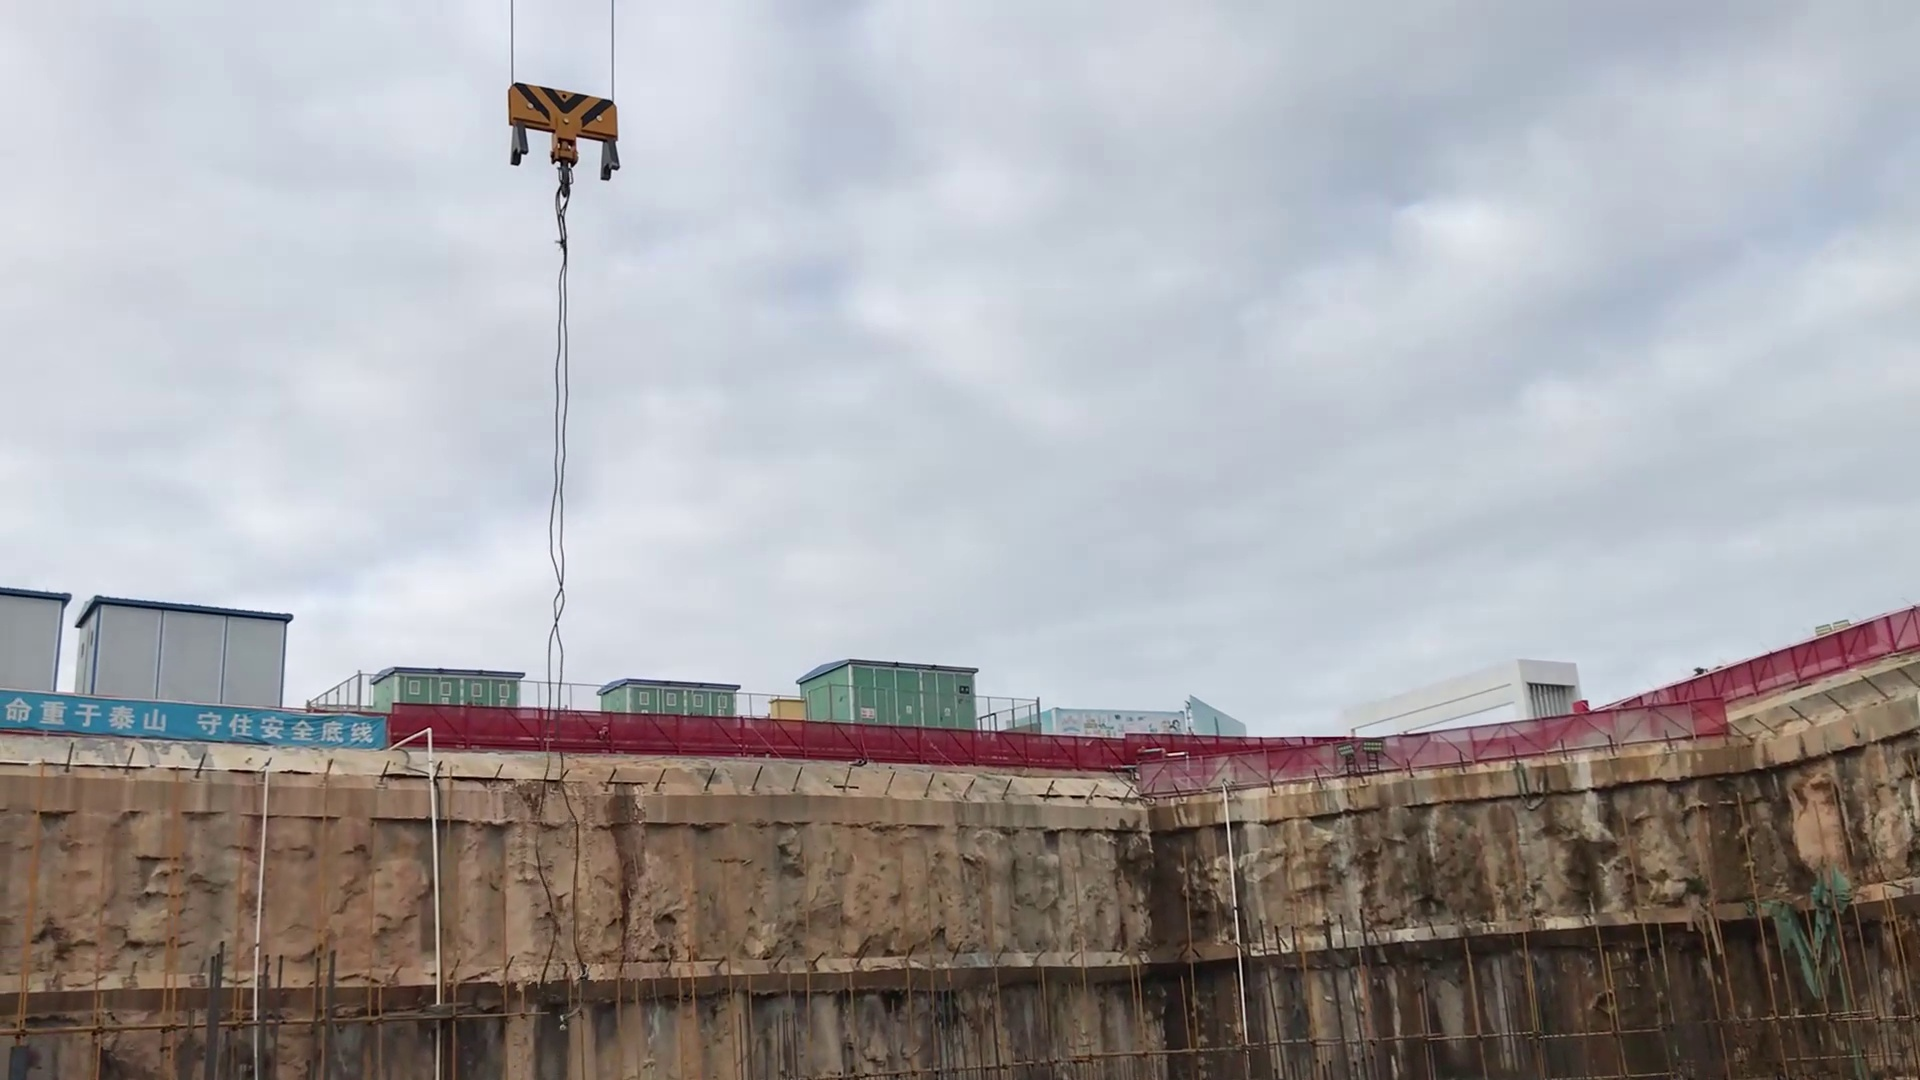hook: (497, 76, 628, 208)
slogan: (1, 688, 386, 749)
